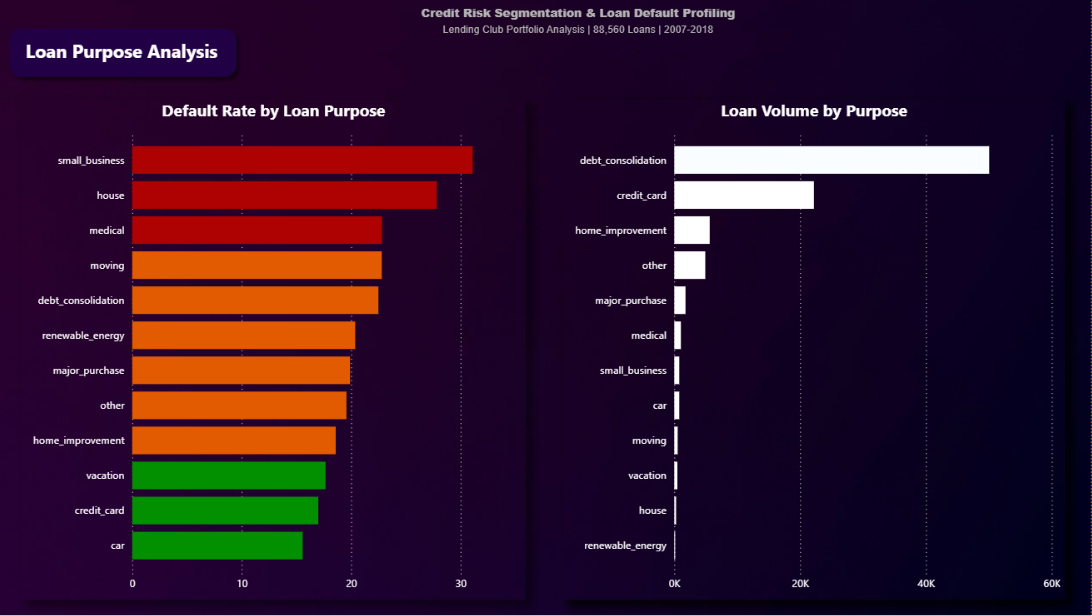

The dashboard page shown, as its layout file describes it:
{"tool":"powerbi","page":{"name":"Loan Purpose Analysis","canvas":[1280,720],"ordinal":2},"visuals":[{"type":"textbox","box":[456,0,454.7,88],"z":0},{"type":"clusteredBarChart","title":"Default Rate by Loan Purpose","fields":{"Category":["purpose_profile.purpose"],"Y":["Sum(purpose_profile.default_rate_pct)"]},"box":[34.9,116.3,587.2,582.6],"z":1000},{"type":"shape","box":[12,24,282.7,74.7],"z":2000},{"type":"textbox","box":[34.7,40,237.3,42.7],"z":3000},{"type":"clusteredBarChart","title":"Loan Volume by Purpose","fields":{"Category":["purpose_profile.purpose"],"Y":["Sum(purpose_profile.total_loans)"]},"box":[666.3,116.3,583.7,582.6],"z":4000}]}

Visuals, with their boxes in screenshot pixels (x1, y1, x2, y2), scaled from the page's 1280x720 canvas onto the 1092x616 screenshot:
textbox: (389, 0, 777, 75)
"Default Rate by Loan Purpose" clusteredBarChart: (30, 100, 531, 598)
shape: (10, 21, 251, 84)
textbox: (30, 34, 232, 71)
"Loan Volume by Purpose" clusteredBarChart: (568, 100, 1066, 598)
